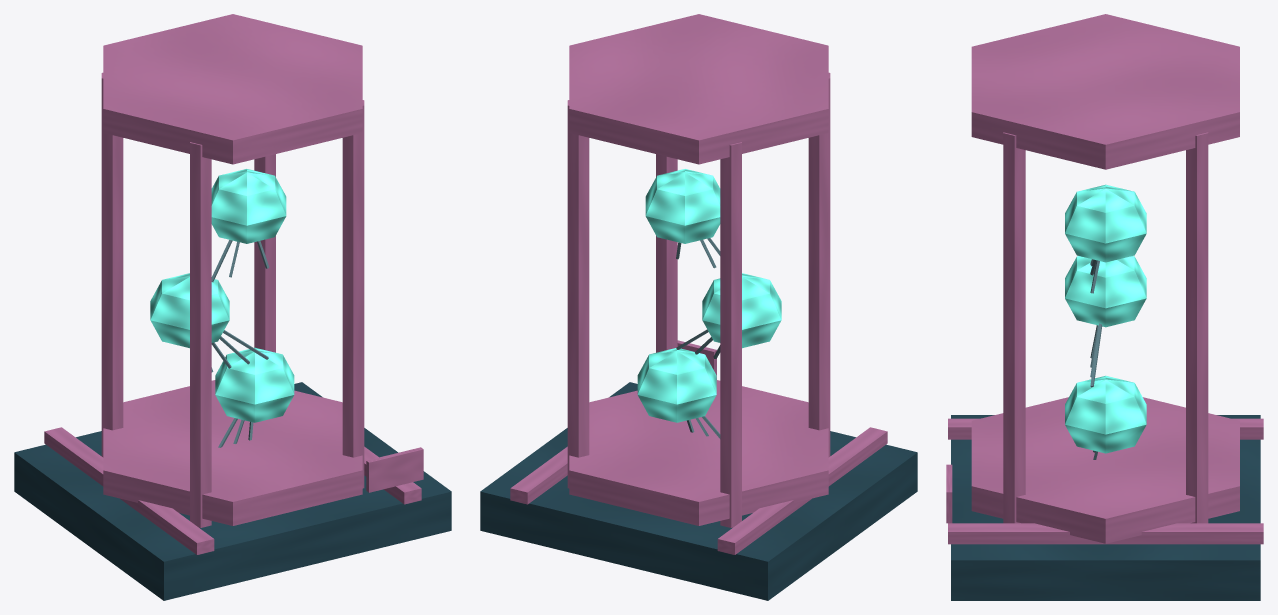
The model's file is atlas100-s065-a01.lod1.glb.
3 renders of one model, left to right at view 1: azimuth 30°, elevation 25°; view 2: azimuth 150°, elevation 25°; view 3: azimuth 270°, elevation 25°, orthographic. The views are drawn at different scales.
Parts seen in each view (by area): view 1: atlas100-s065-a01:part-004, atlas100-s065-a01:part-000, atlas100-s065-a01:part-003, atlas100-s065-a01:part-007, atlas100-s065-a01:part-005, atlas100-s065-a01:part-009, atlas100-s065-a01:part-023, atlas100-s065-a01:part-013, atlas100-s065-a01:part-001, atlas100-s065-a01:part-018, atlas100-s065-a01:part-011, atlas100-s065-a01:part-028 (+1 smaller); view 2: atlas100-s065-a01:part-004, atlas100-s065-a01:part-000, atlas100-s065-a01:part-003, atlas100-s065-a01:part-009, atlas100-s065-a01:part-011, atlas100-s065-a01:part-007, atlas100-s065-a01:part-013, atlas100-s065-a01:part-023, atlas100-s065-a01:part-001, atlas100-s065-a01:part-018, atlas100-s065-a01:part-005, atlas100-s065-a01:part-002; view 3: atlas100-s065-a01:part-004, atlas100-s065-a01:part-003, atlas100-s065-a01:part-000, atlas100-s065-a01:part-005, atlas100-s065-a01:part-011, atlas100-s065-a01:part-002, atlas100-s065-a01:part-023, atlas100-s065-a01:part-013, atlas100-s065-a01:part-018, atlas100-s065-a01:part-001.
Boxes of the visible parts, bbox=[...] form: atlas100-s065-a01:part-004: bbox=[103, 14, 362, 164]; atlas100-s065-a01:part-000: bbox=[14, 382, 451, 600]; atlas100-s065-a01:part-003: bbox=[103, 380, 362, 525]; atlas100-s065-a01:part-007: bbox=[190, 142, 211, 527]; atlas100-s065-a01:part-005: bbox=[342, 100, 364, 488]; atlas100-s065-a01:part-009: bbox=[101, 72, 123, 457]; atlas100-s065-a01:part-023: bbox=[211, 169, 286, 243]; atlas100-s065-a01:part-013: bbox=[215, 347, 294, 422]; atlas100-s065-a01:part-001: bbox=[44, 427, 214, 554]; atlas100-s065-a01:part-018: bbox=[150, 273, 229, 348]; atlas100-s065-a01:part-011: bbox=[254, 154, 275, 352]; atlas100-s065-a01:part-028: bbox=[366, 447, 423, 492]; atlas100-s065-a01:part-004: bbox=[569, 14, 828, 164]; atlas100-s065-a01:part-000: bbox=[480, 382, 917, 600]; atlas100-s065-a01:part-003: bbox=[569, 380, 828, 525]; atlas100-s065-a01:part-009: bbox=[720, 142, 741, 527]; atlas100-s065-a01:part-011: bbox=[567, 100, 589, 488]; atlas100-s065-a01:part-007: bbox=[808, 72, 830, 457]; atlas100-s065-a01:part-013: bbox=[637, 348, 716, 422]; atlas100-s065-a01:part-023: bbox=[645, 169, 720, 243]; atlas100-s065-a01:part-001: bbox=[717, 427, 887, 554]; atlas100-s065-a01:part-018: bbox=[702, 273, 781, 348]; atlas100-s065-a01:part-005: bbox=[656, 154, 677, 352]; atlas100-s065-a01:part-002: bbox=[510, 446, 567, 504]; atlas100-s065-a01:part-004: bbox=[971, 14, 1239, 169]; atlas100-s065-a01:part-003: bbox=[971, 397, 1239, 543]; atlas100-s065-a01:part-000: bbox=[951, 415, 1260, 600]; atlas100-s065-a01:part-005: bbox=[1003, 132, 1025, 523]; atlas100-s065-a01:part-011: bbox=[1186, 132, 1208, 523]; atlas100-s065-a01:part-002: bbox=[948, 523, 1263, 544]; atlas100-s065-a01:part-023: bbox=[1065, 184, 1146, 262]; atlas100-s065-a01:part-013: bbox=[1065, 375, 1146, 453]; atlas100-s065-a01:part-018: bbox=[1065, 256, 1146, 327]; atlas100-s065-a01:part-001: bbox=[948, 418, 1263, 439].
Size of the model in its own units: 2 by 2.88 by 1.85.
4 materials, 4 textured.
